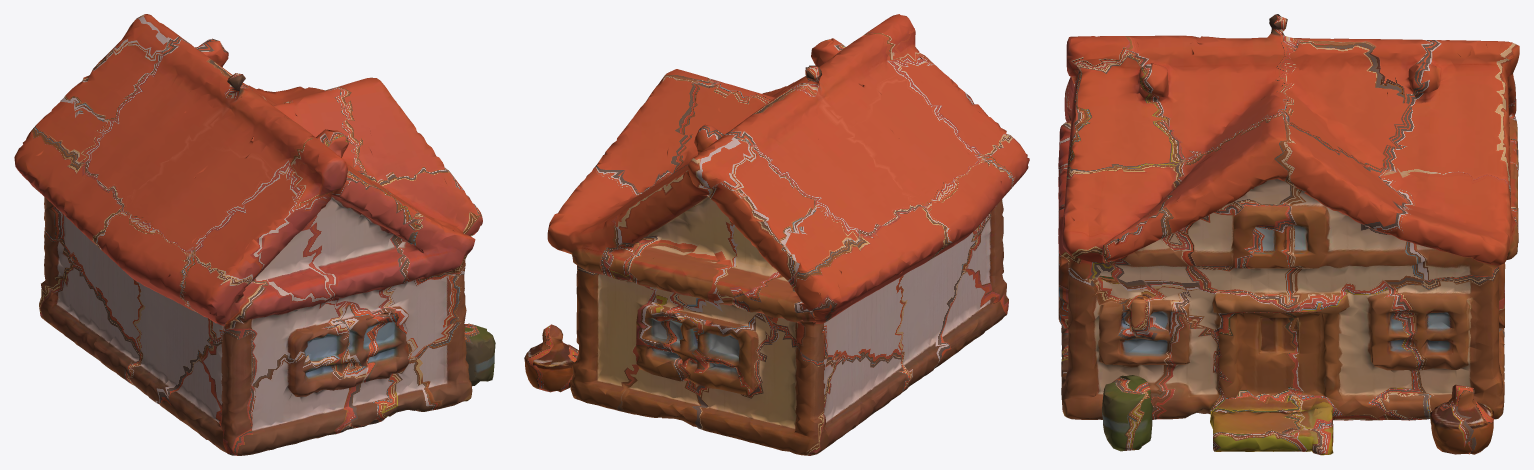
The model's file is بيت_المزرعة.glb.
3 views of the same model, side by side, from view 1: azimuth 30°, elevation 25°; view 2: azimuth 150°, elevation 25°; view 3: azimuth 270°, elevation 25° (orthographic). The views are drawn at different scales.
Parts seen in each view (by area): view 1: tripo_node_1d098434-f0bd-4354-9fe1-f426ceee7964; view 2: tripo_node_1d098434-f0bd-4354-9fe1-f426ceee7964; view 3: tripo_node_1d098434-f0bd-4354-9fe1-f426ceee7964.
Part boxes in pixels (x1,y1,x2,y2): tripo_node_1d098434-f0bd-4354-9fe1-f426ceee7964: (14, 14, 495, 455); tripo_node_1d098434-f0bd-4354-9fe1-f426ceee7964: (524, 14, 1029, 455); tripo_node_1d098434-f0bd-4354-9fe1-f426ceee7964: (1058, 14, 1519, 455).
Size of the model in its own units: 0.9802 by 0.8033 by 0.9979.
Materials: 1 (1 with a texture image).
